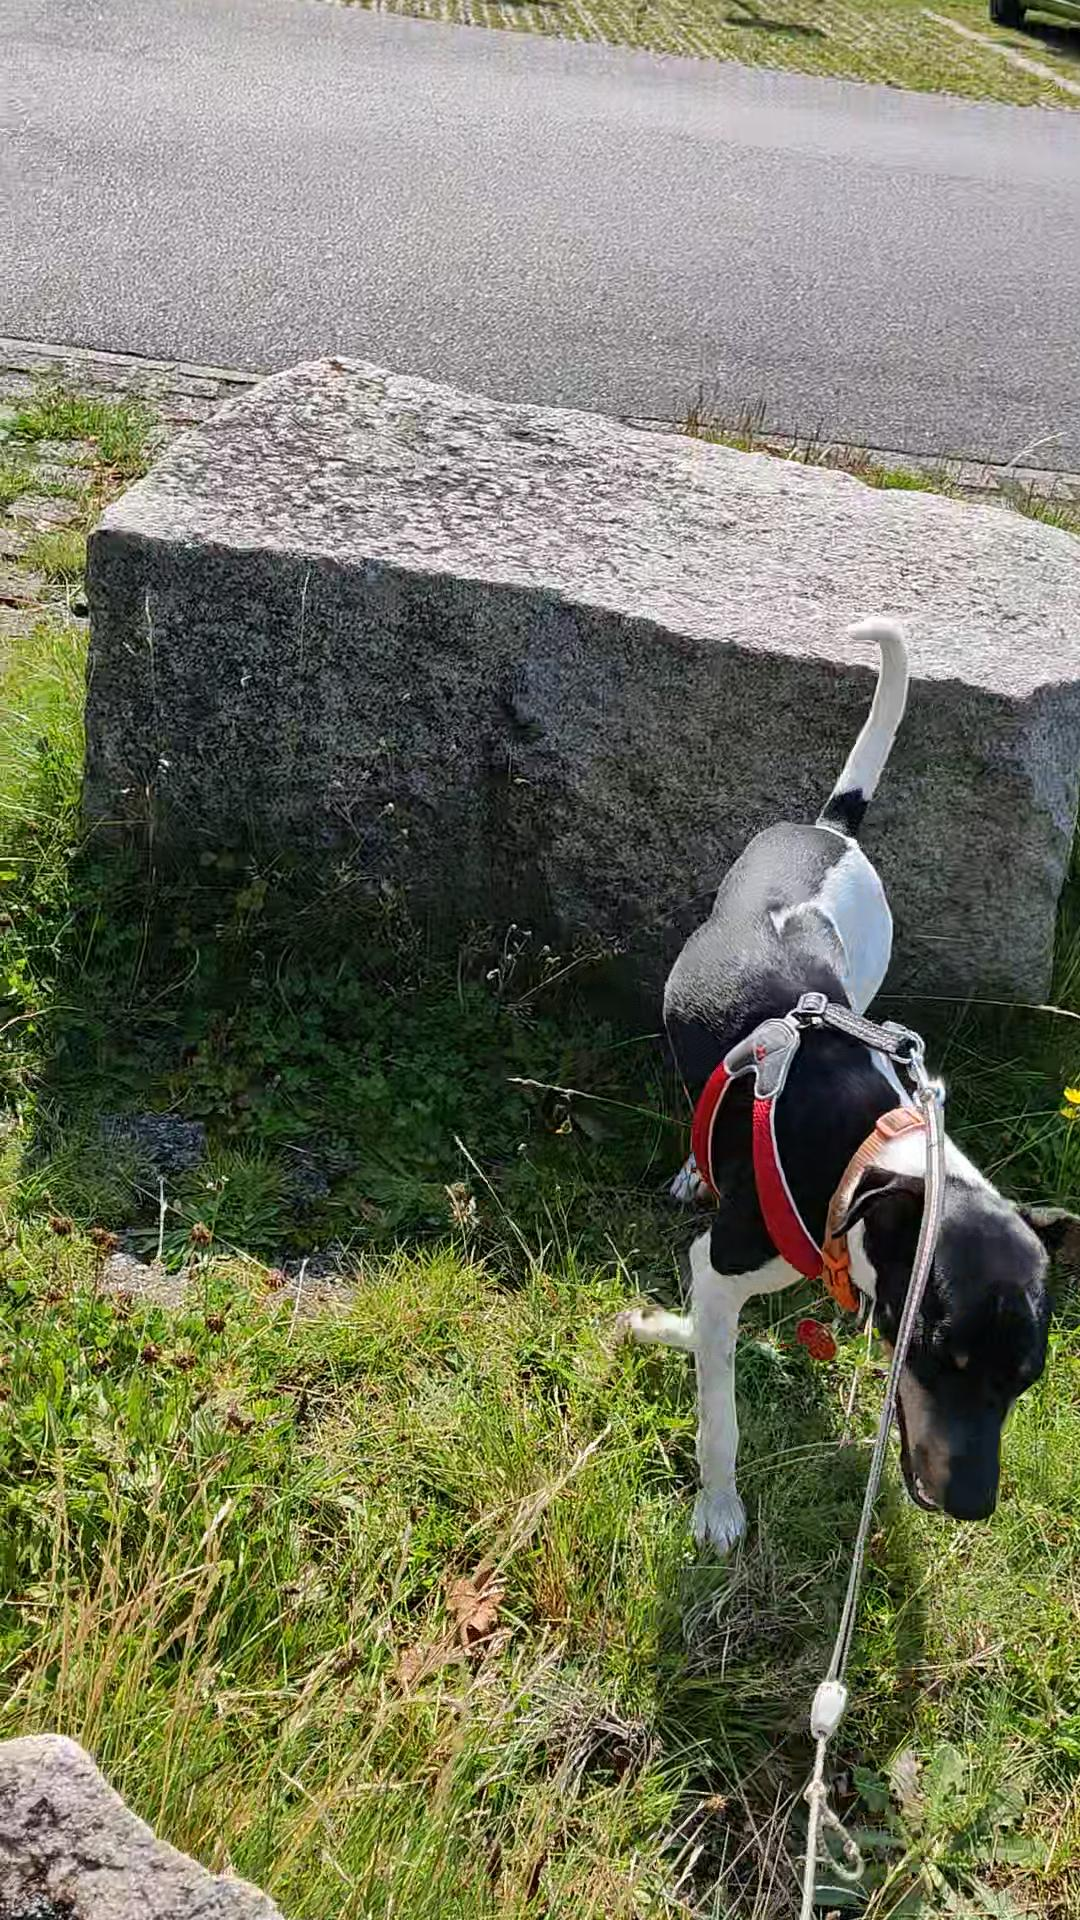Dog: (601, 603, 1079, 1567)
